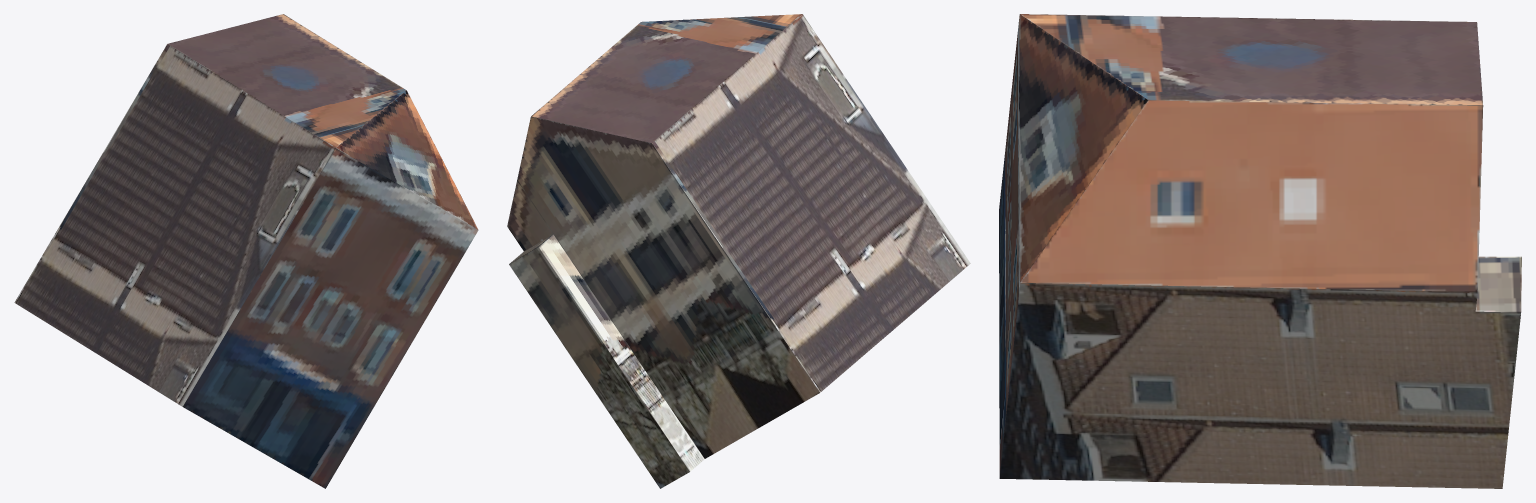
The picture shows the model from 3 angles, left to right: view 1: azimuth 30°, elevation 25°; view 2: azimuth 150°, elevation 25°; view 3: azimuth 270°, elevation 25°; orthographic projection. The views are drawn at different scales.
Parts seen in each view (by area): view 1: BAG_0599100000675880 (×2); view 2: BAG_0599100000675880 (×4); view 3: BAG_0599100000675880 (×3).
Part boxes in pixels (left/top/right/bottom): BAG_0599100000675880 (×2): left=14, top=14, right=478, bottom=488; BAG_0599100000675880 (×4): left=507, top=14, right=970, bottom=488; BAG_0599100000675880 (×3): left=999, top=14, right=1521, bottom=488.
Size of the model in its own units: 13.41 by 14.08 by 13.52.
1 material, 1 textured.
